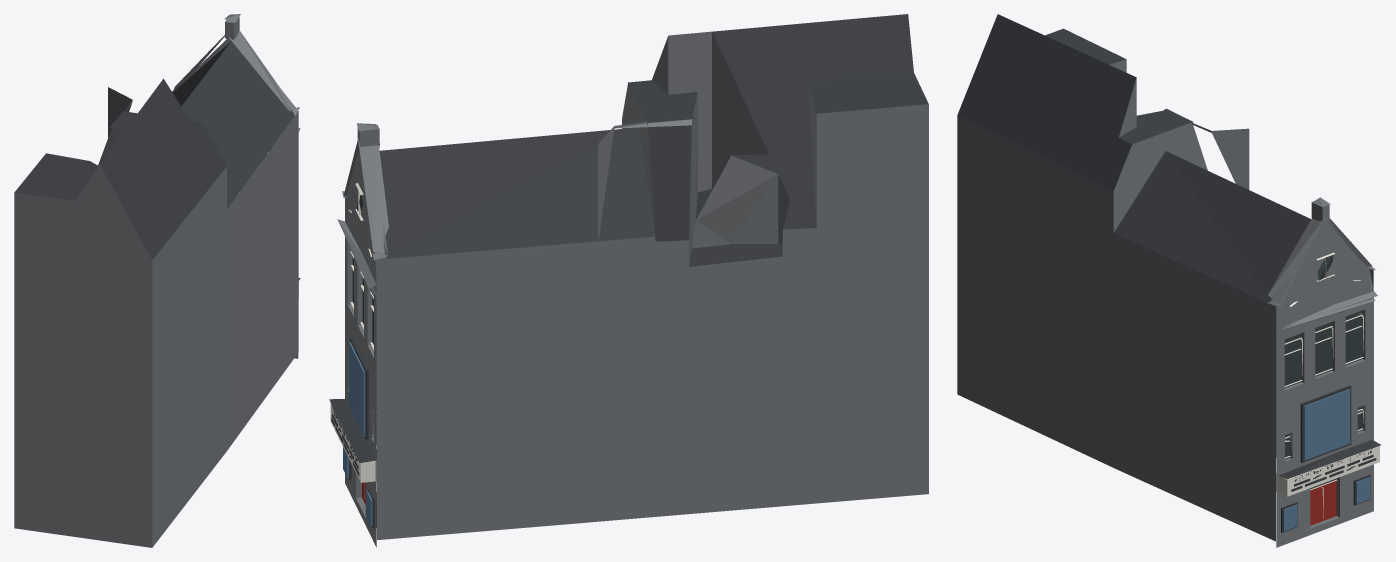
The model's file is de-uitkijk.lod1.glb.
3 renders of one model, left to right at view 1: azimuth 30°, elevation 25°; view 2: azimuth 150°, elevation 25°; view 3: azimuth 270°, elevation 25°, orthographic. The views are drawn at different scales.
Parts seen in each view (by area): view 1: de-uitkijk; view 2: de-uitkijk; view 3: de-uitkijk.
Part boxes in pixels (x1,y1,x2,y2): de-uitkijk: (14, 14, 300, 547); de-uitkijk: (329, 14, 928, 547); de-uitkijk: (957, 14, 1380, 547).
Size of the model in its own units: 19.21 by 17.53 by 18.09.
